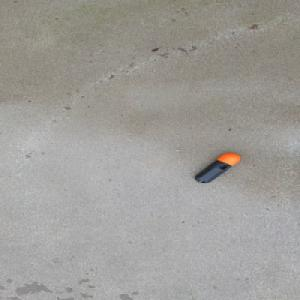PlasticPart: (192, 152, 241, 183)
